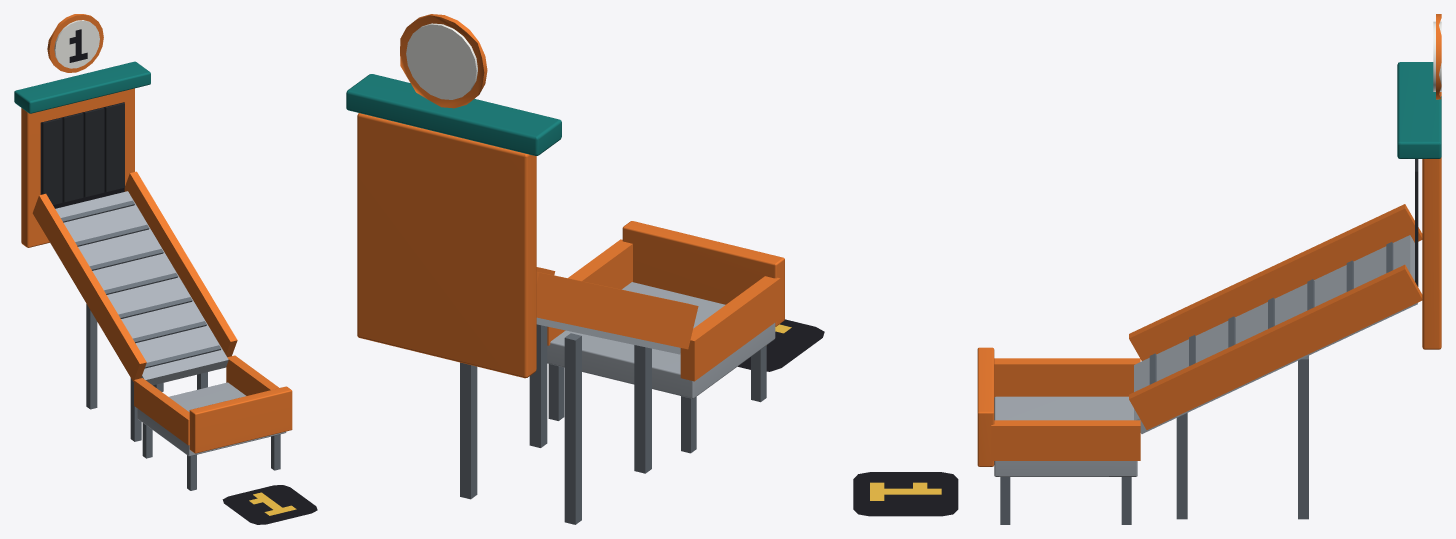
Rendered from Tobogan1.fbx.
3 renders of one model, left to right at view 1: azimuth 30°, elevation 25°; view 2: azimuth 150°, elevation 25°; view 3: azimuth 270°, elevation 25°, orthographic. The views are drawn at different scales.
Visible parts, largest first — view 1: Tobogan1; view 2: Tobogan1; view 3: Tobogan1.
Part boxes in pixels (bbox=[...]): Tobogan1: bbox=[14, 14, 317, 524]; Tobogan1: bbox=[346, 14, 824, 524]; Tobogan1: bbox=[853, 14, 1441, 524].
Bounding box in the file's own units: 3.5 × 9.53 × 10.65.
1 material, 1 textured.
